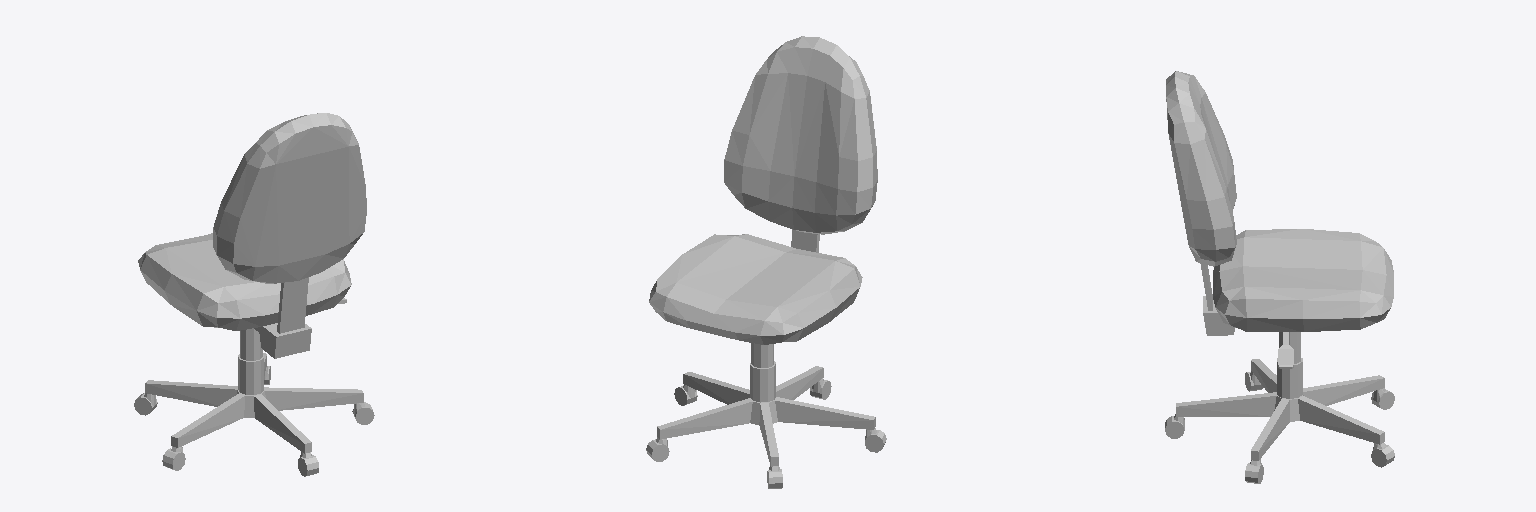
The model's file is office_chair.obj.
3 renders of one model, left to right at view 1: azimuth 30°, elevation 25°; view 2: azimuth 150°, elevation 25°; view 3: azimuth 270°, elevation 25°, orthographic.
Visible parts, largest first — view 1: chair_lp; view 2: chair_lp; view 3: chair_lp.
Boxes of the visible parts, box(x1,y1,x2,y2) form: chair_lp: box(134, 113, 374, 476); chair_lp: box(646, 36, 886, 488); chair_lp: box(1165, 71, 1394, 483).
Size of the model in its own units: 28.87 by 47.31 by 27.46.